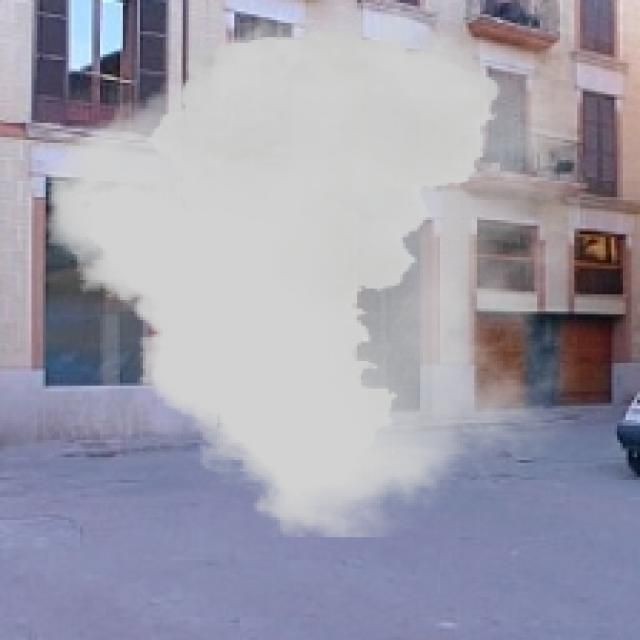Smoke: (46, 5, 580, 538)
